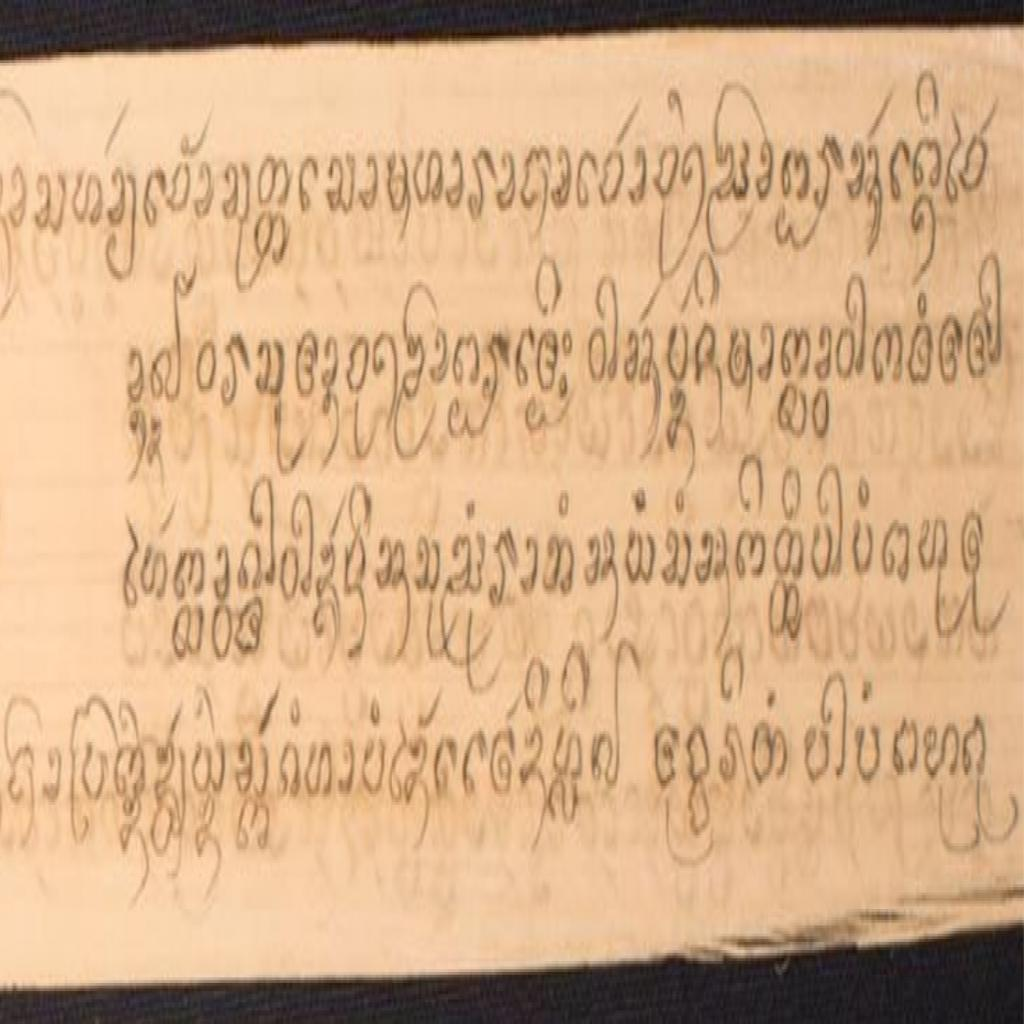LN028: (734, 524, 769, 590)
